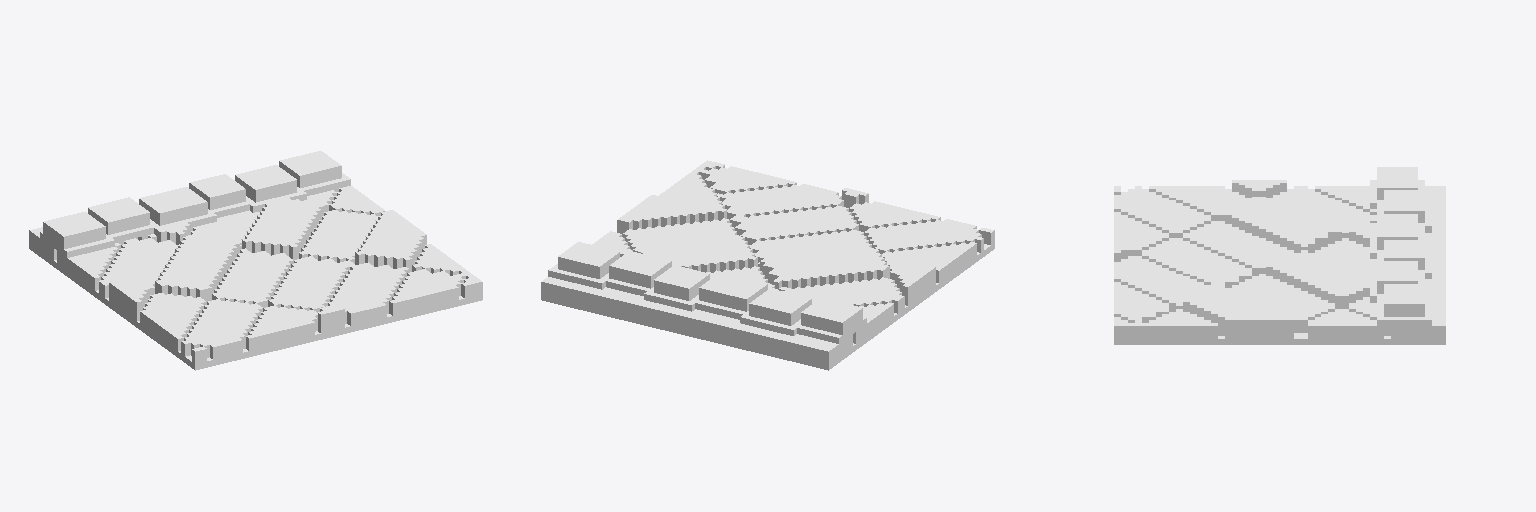
File: street-edge-right.obj
The picture shows the model from 3 angles: view 1: azimuth 30°, elevation 25°; view 2: azimuth 150°, elevation 25°; view 3: azimuth 270°, elevation 25°; orthographic projection.
Parts seen in each view (by area): view 1: object 1; view 2: object 1; view 3: object 1.
Part boxes in pixels (x1,y1,x2,y2): object 1: (29,151,482,370); object 1: (541,160,994,370); object 1: (1114,167,1445,344).
Size of the model in its own units: 4.8 by 0.6 by 4.8.